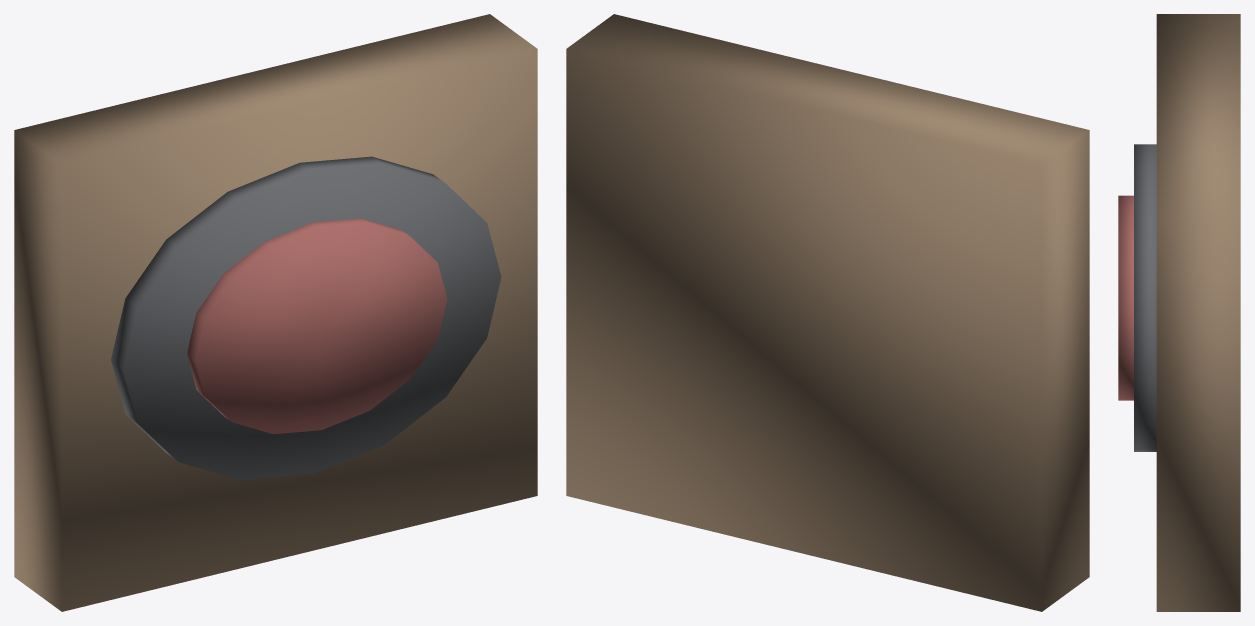
File: dartboard_cabinet__squat.glb
The picture shows the model from 3 angles, left to right: view 1: azimuth 30°, elevation 25°; view 2: azimuth 150°, elevation 25°; view 3: azimuth 270°, elevation 25°; orthographic projection. The views are drawn at different scales.
Visible parts, largest first — view 1: world; view 2: world; view 3: world.
Boxes of the visible parts, box(x1,y1,x2,y2) form: world: box(14, 14, 537, 611); world: box(566, 14, 1089, 611); world: box(1118, 14, 1240, 611).
Bounding box in the file's own units: 0.748 × 0.672 × 0.189.
